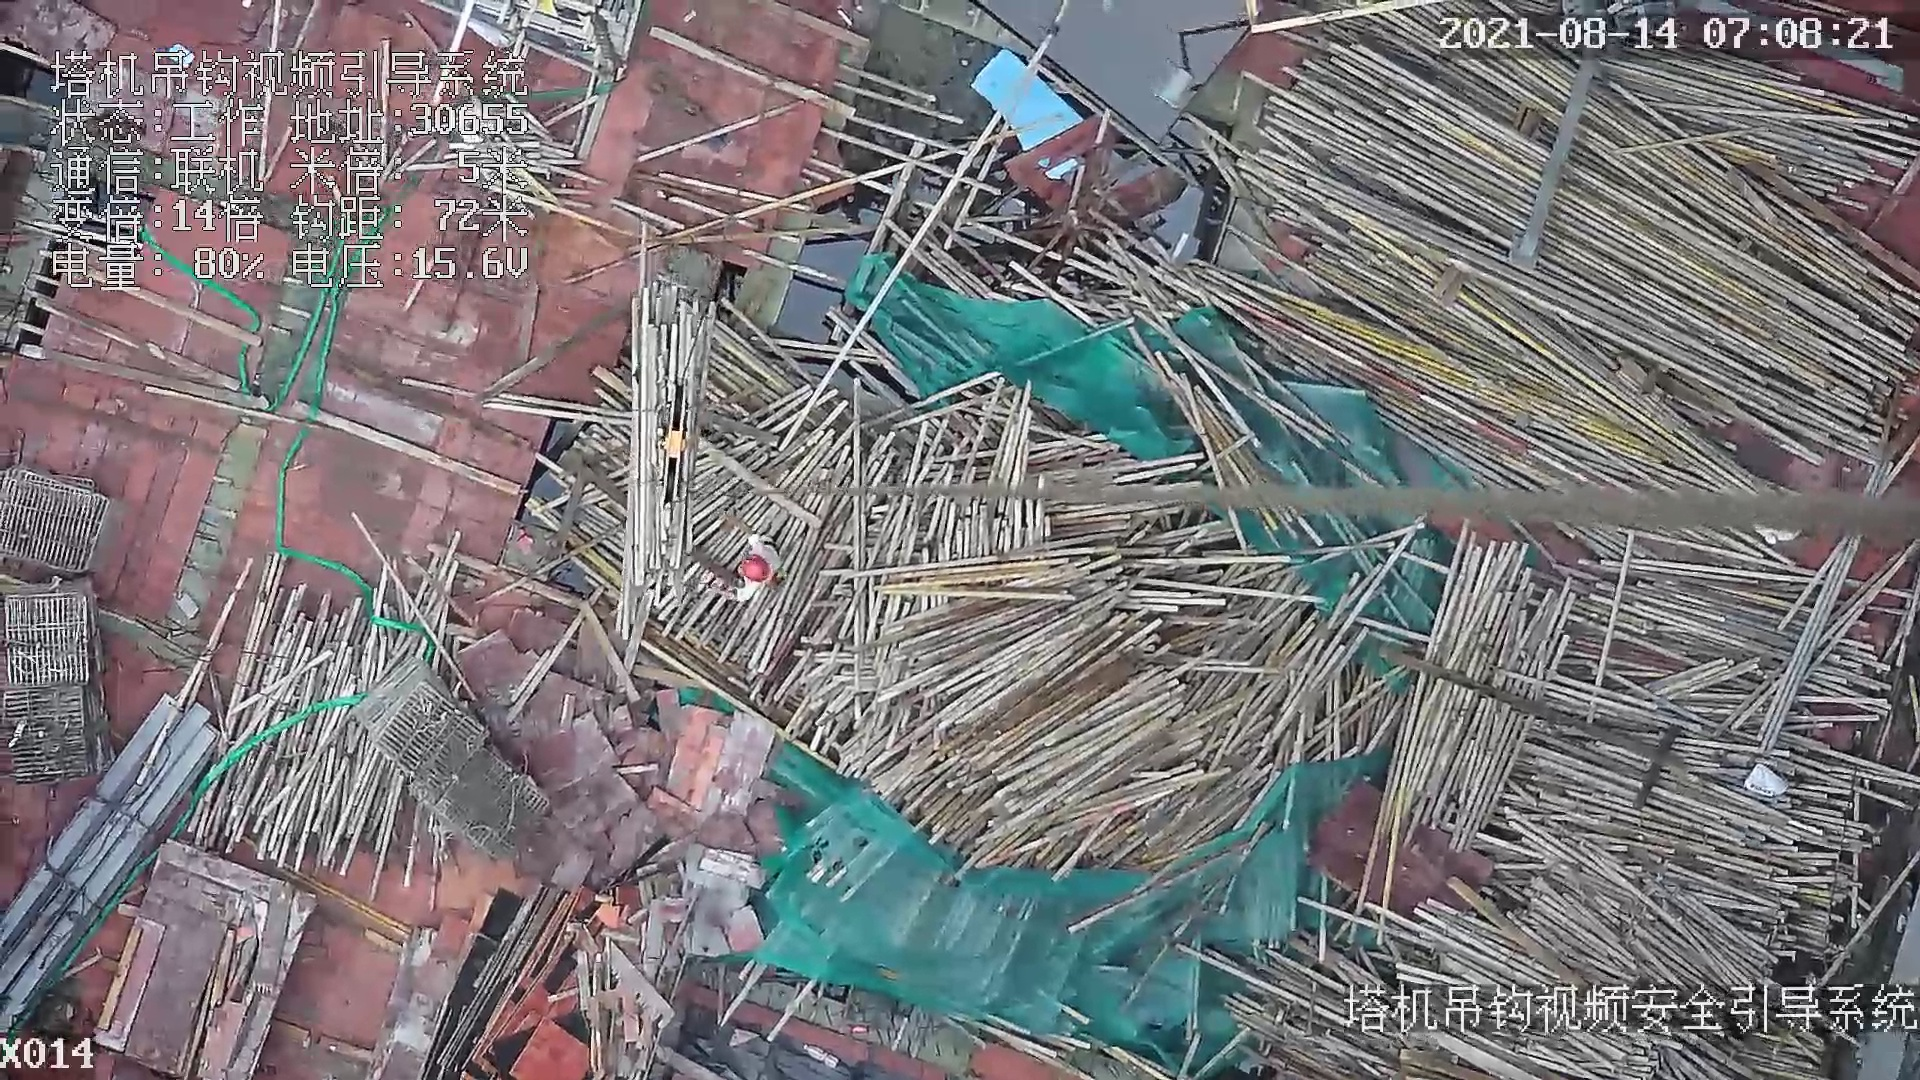helmet: (742, 555, 772, 584)
hook: (655, 372, 699, 509)
person: (733, 532, 781, 600)
